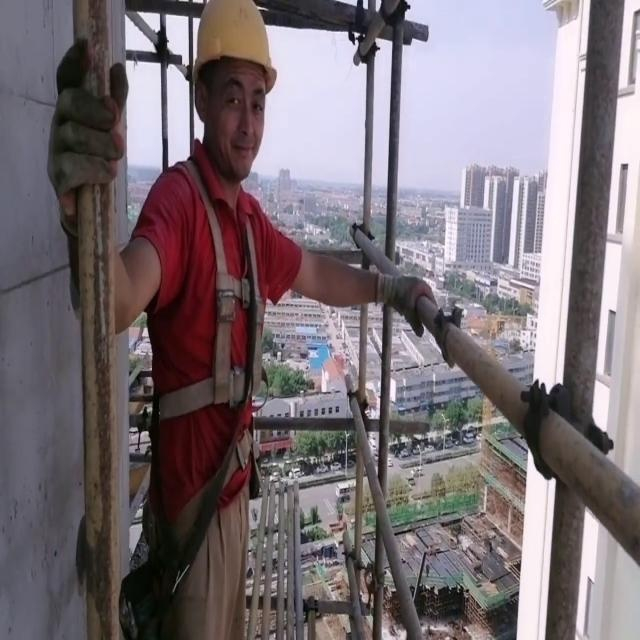Arnes_seguridad: (140, 150, 274, 430)
